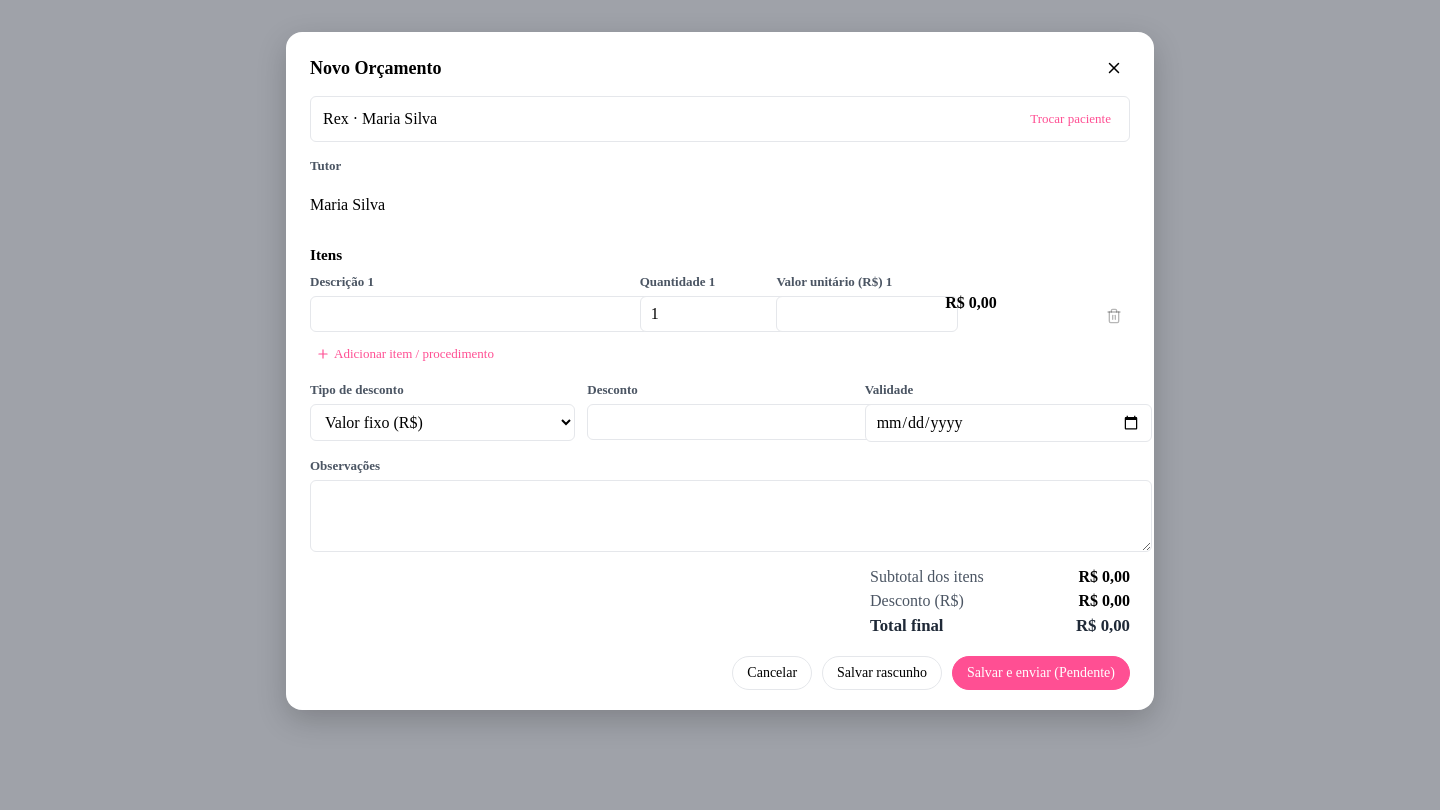
Test: NewBudgetModal › mostra o erro do servidor em toast e não fecha o modal
Expected: the text "Maria Silva" is shown, [310,196,385,213]
Type "Vacina" into the field named "Descrição do item 1" at {"x": 482, "y": 314}, box [310,296,654,332]
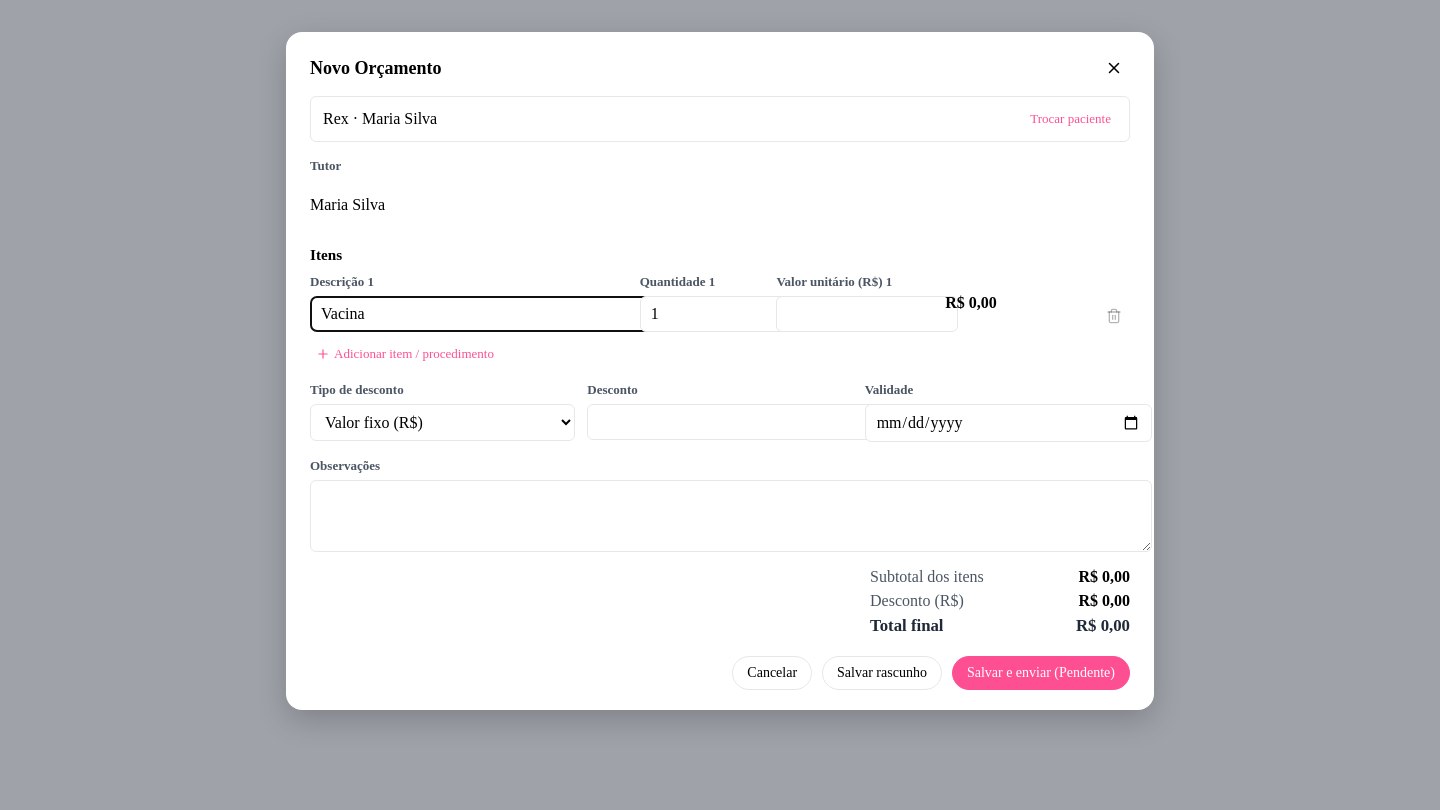
Type "50" into the field named "Valor unitário do item 1" at {"x": 867, "y": 314}, box [776,296,958,332]
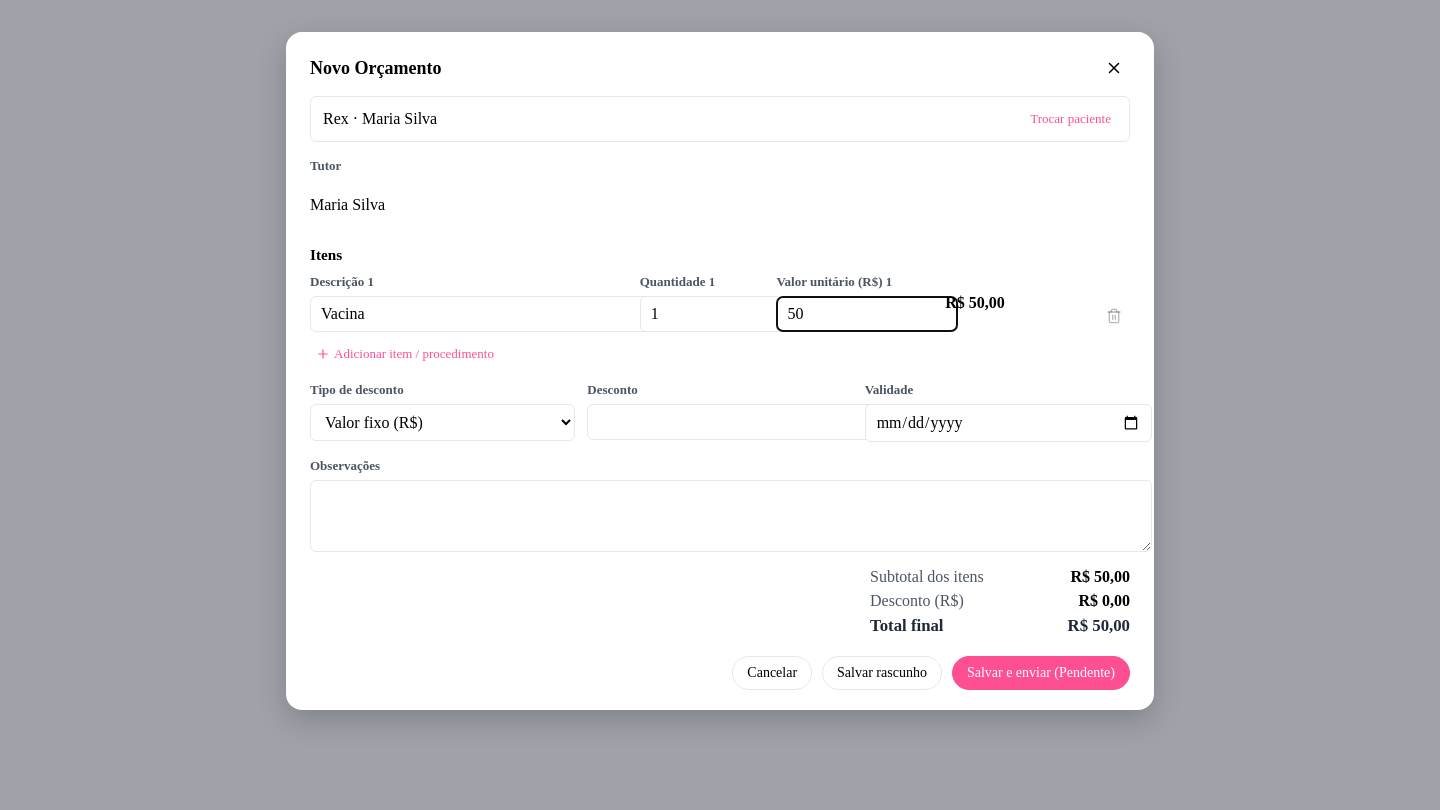
Click the button "Salvar rascunho" at {"x": 882, "y": 673}, box [822,656,942,690]
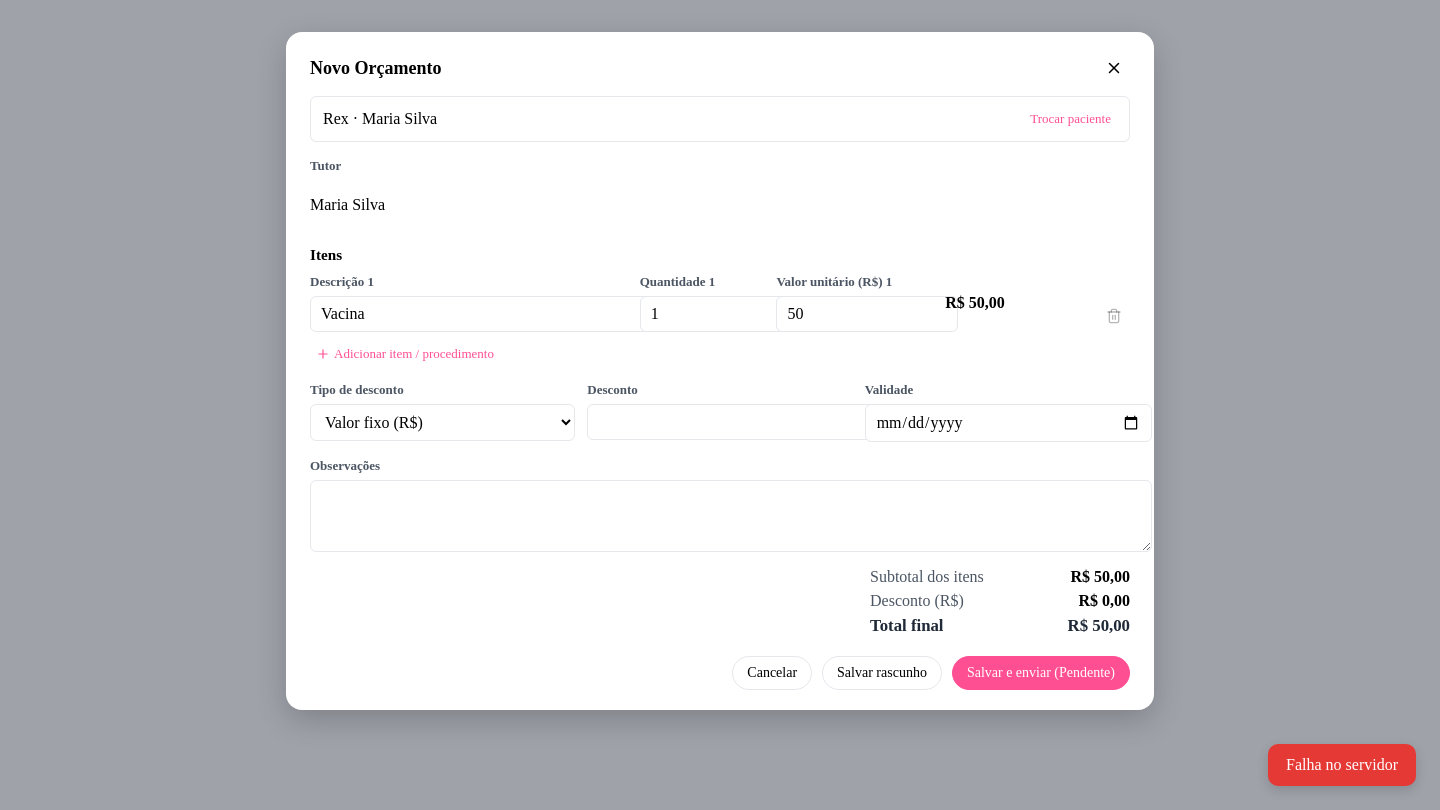
Now the message reads "Falha no servidor", box [1286,756,1398,773]
